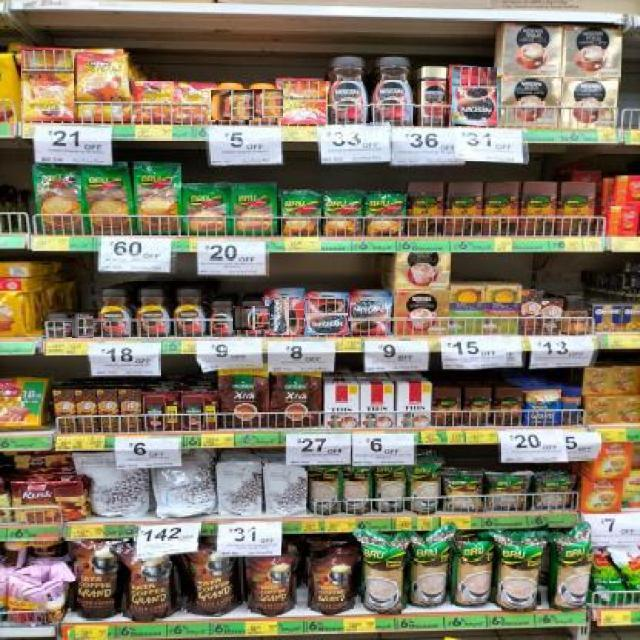Coffee: (21, 50, 74, 121), (76, 54, 129, 121), (371, 58, 415, 125), (451, 66, 497, 126), (329, 57, 370, 124), (280, 80, 326, 124), (304, 298, 348, 335), (265, 297, 304, 335), (351, 298, 389, 336), (211, 89, 254, 120), (242, 89, 283, 118), (208, 299, 236, 336), (233, 305, 270, 330), (46, 314, 70, 335), (73, 314, 93, 338)
